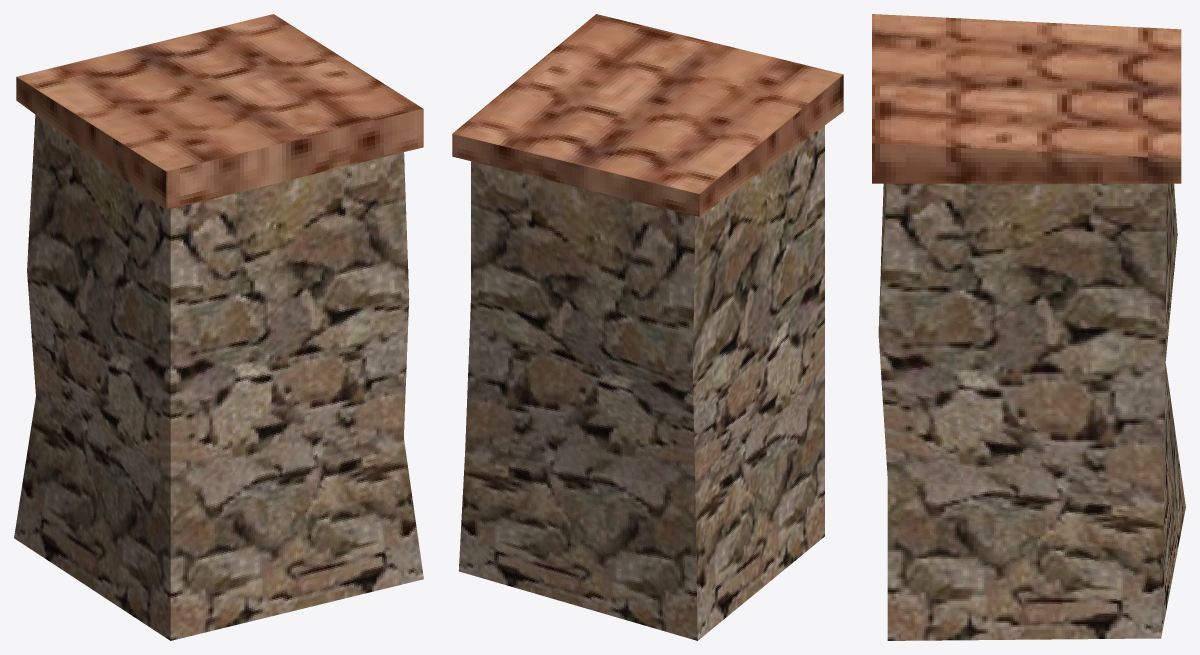
Rendered from lf_drystone_column_tiles.glb.
3 views of the same model, side by side, from view 1: azimuth 30°, elevation 25°; view 2: azimuth 150°, elevation 25°; view 3: azimuth 270°, elevation 25° (orthographic). The views are drawn at different scales.
Visible parts, largest first — view 1: drystone_column_tiles; view 2: drystone_column_tiles; view 3: drystone_column_tiles.
Part boxes in pixels (<box>): drystone_column_tiles: <box>14,14,423,640</box>; drystone_column_tiles: <box>452,14,843,640</box>; drystone_column_tiles: <box>872,14,1185,640</box>.
Bounding box in the file's own units: 0.5691 × 0.9791 × 0.5646.
2 materials, 2 textured.
